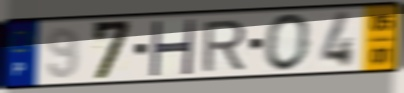4: (318, 8, 357, 71)
7: (89, 19, 133, 83)
9: (45, 25, 83, 80)
H: (147, 19, 197, 76)
O: (262, 12, 313, 73)
R: (200, 17, 248, 74)
